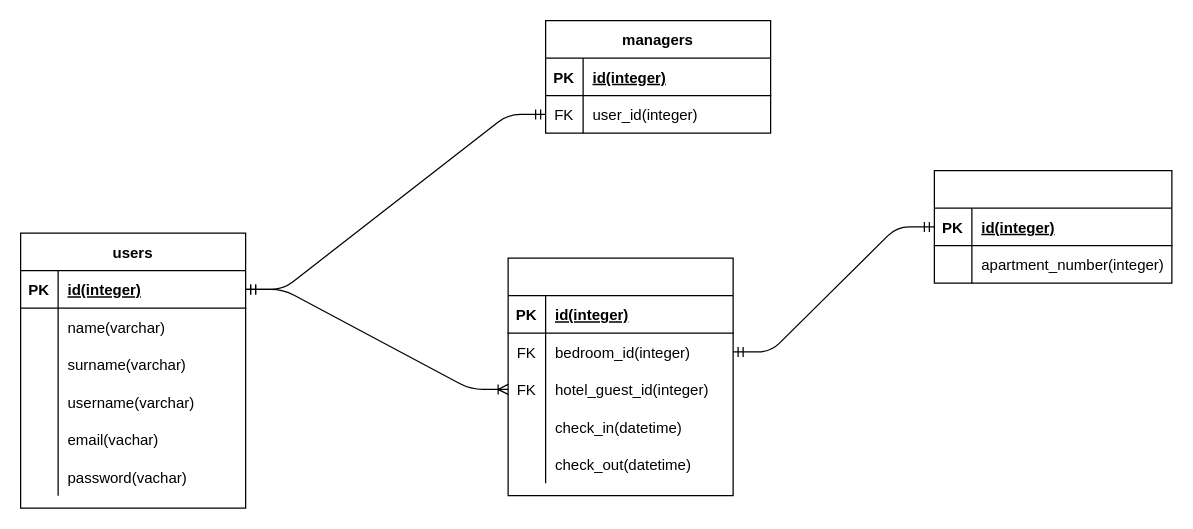
The diagram is 1193 pixels wide and 529 high, and some of its shapes have lost their labels. Here are the shapes that lost their labels. From the top down, the box of each, then its label:
(933, 169, 1172, 283): bedrooms
(507, 257, 733, 496): reserves
